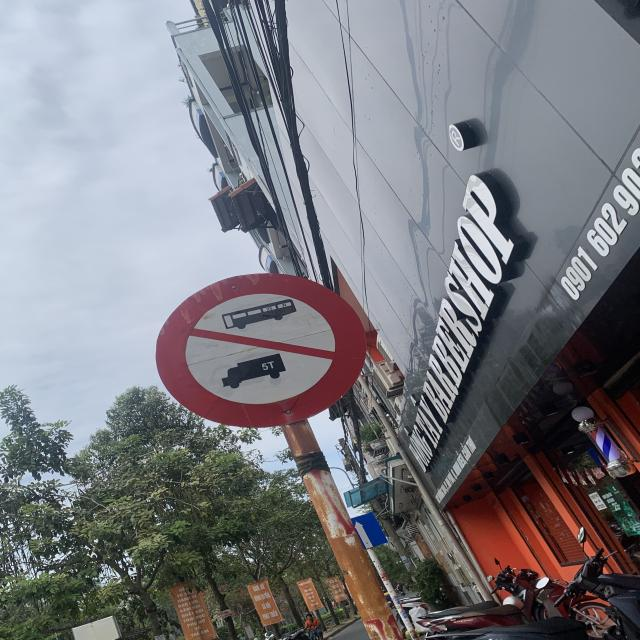Cam_XeTai_XeKhach: (154, 271, 370, 430)
